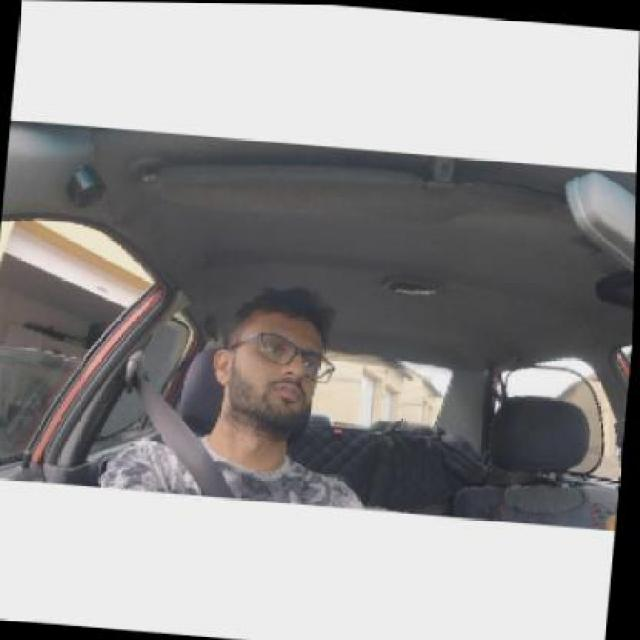person: (206, 269, 325, 429)
